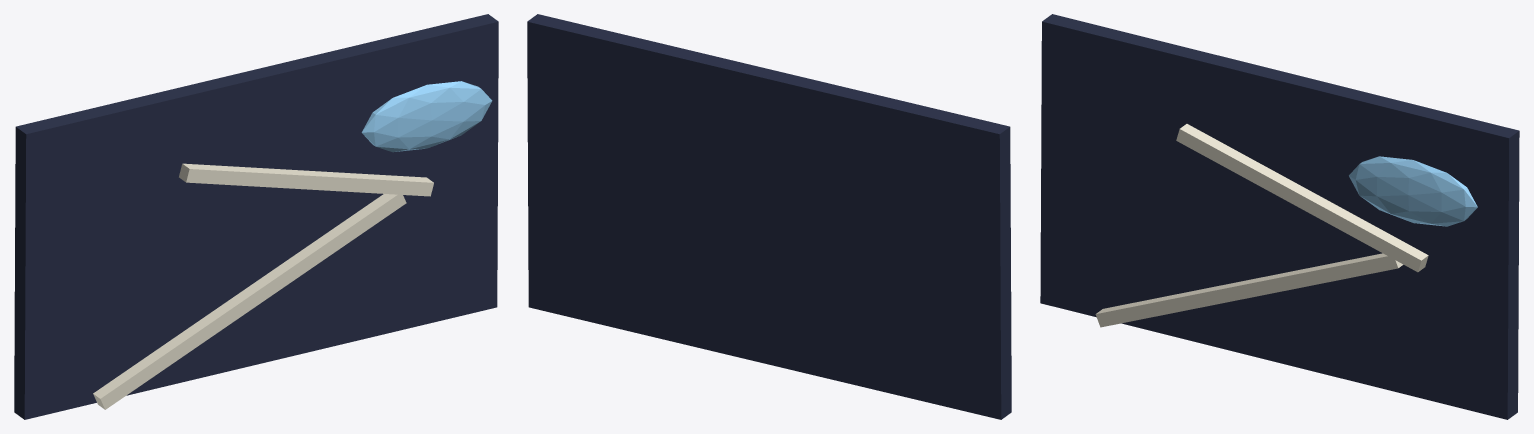
Rendered from 04_weathering_wear_overlay_4.glb.
3 renders of one model, left to right at view 1: azimuth 30°, elevation 25°; view 2: azimuth 150°, elevation 25°; view 3: azimuth 330°, elevation 25°, orthographic.
Parts seen in each view (by area): view 1: wear_plate, scratch_a, rust_or_moss_spot, scratch_b; view 2: wear_plate; view 3: wear_plate, rust_or_moss_spot, scratch_b, scratch_a.
Part boxes in pixels (<box>): wear_plate: <box>14,14,498,419</box>; scratch_a: <box>93,194,406,409</box>; rust_or_moss_spot: <box>361,81,492,152</box>; scratch_b: <box>179,163,433,196</box>; wear_plate: <box>527,14,1011,419</box>; wear_plate: <box>1040,14,1519,419</box>; rust_or_moss_spot: <box>1349,156,1477,226</box>; scratch_b: <box>1176,124,1428,272</box>; scratch_a: <box>1095,253,1403,327</box>.
Bounding box in the file's own units: 1.3 × 0.7571 × 0.134.
